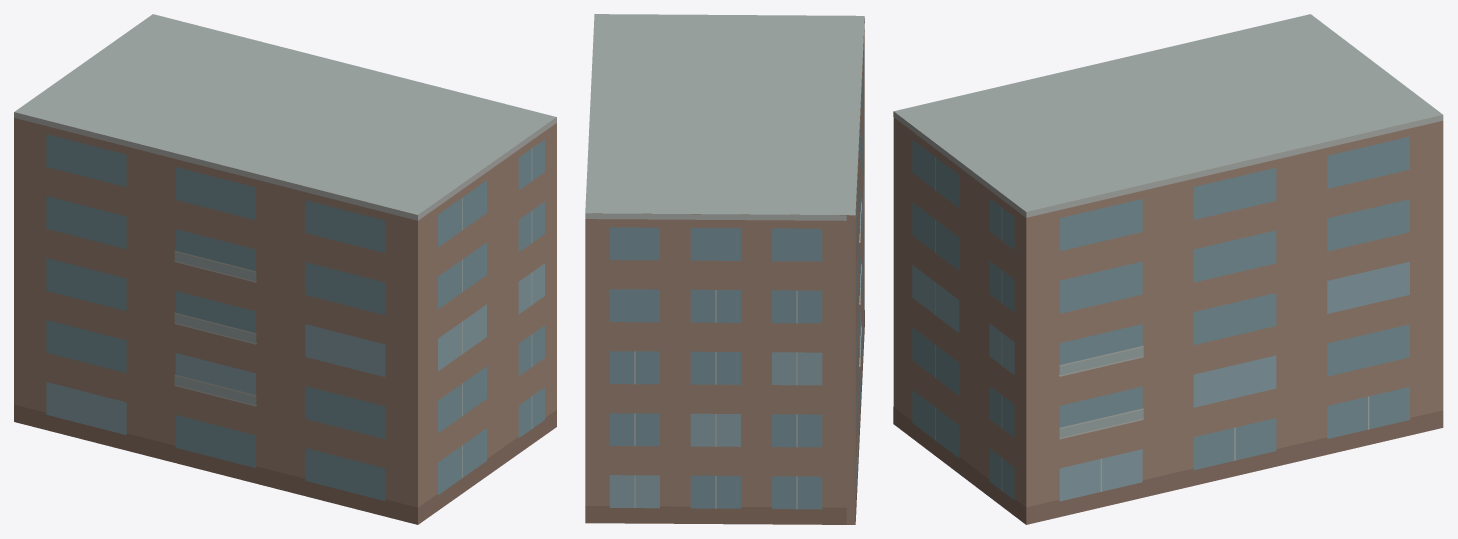
File: survey-upis-32920167.glb
The picture shows the model from 3 angles, left to right: view 1: azimuth 30°, elevation 25°; view 2: azimuth 150°, elevation 25°; view 3: azimuth 270°, elevation 25°; orthographic projection.
Visible parts, largest first — view 1: survey-upis-32920167.tmp; view 2: survey-upis-32920167.tmp; view 3: survey-upis-32920167.tmp.
Part boxes in pixels (bbox=[...]): survey-upis-32920167.tmp: bbox=[14, 14, 556, 524]; survey-upis-32920167.tmp: bbox=[585, 14, 864, 524]; survey-upis-32920167.tmp: bbox=[893, 14, 1443, 524].
Bounding box in the file's own units: 17.93 × 13.2 × 21.04.
